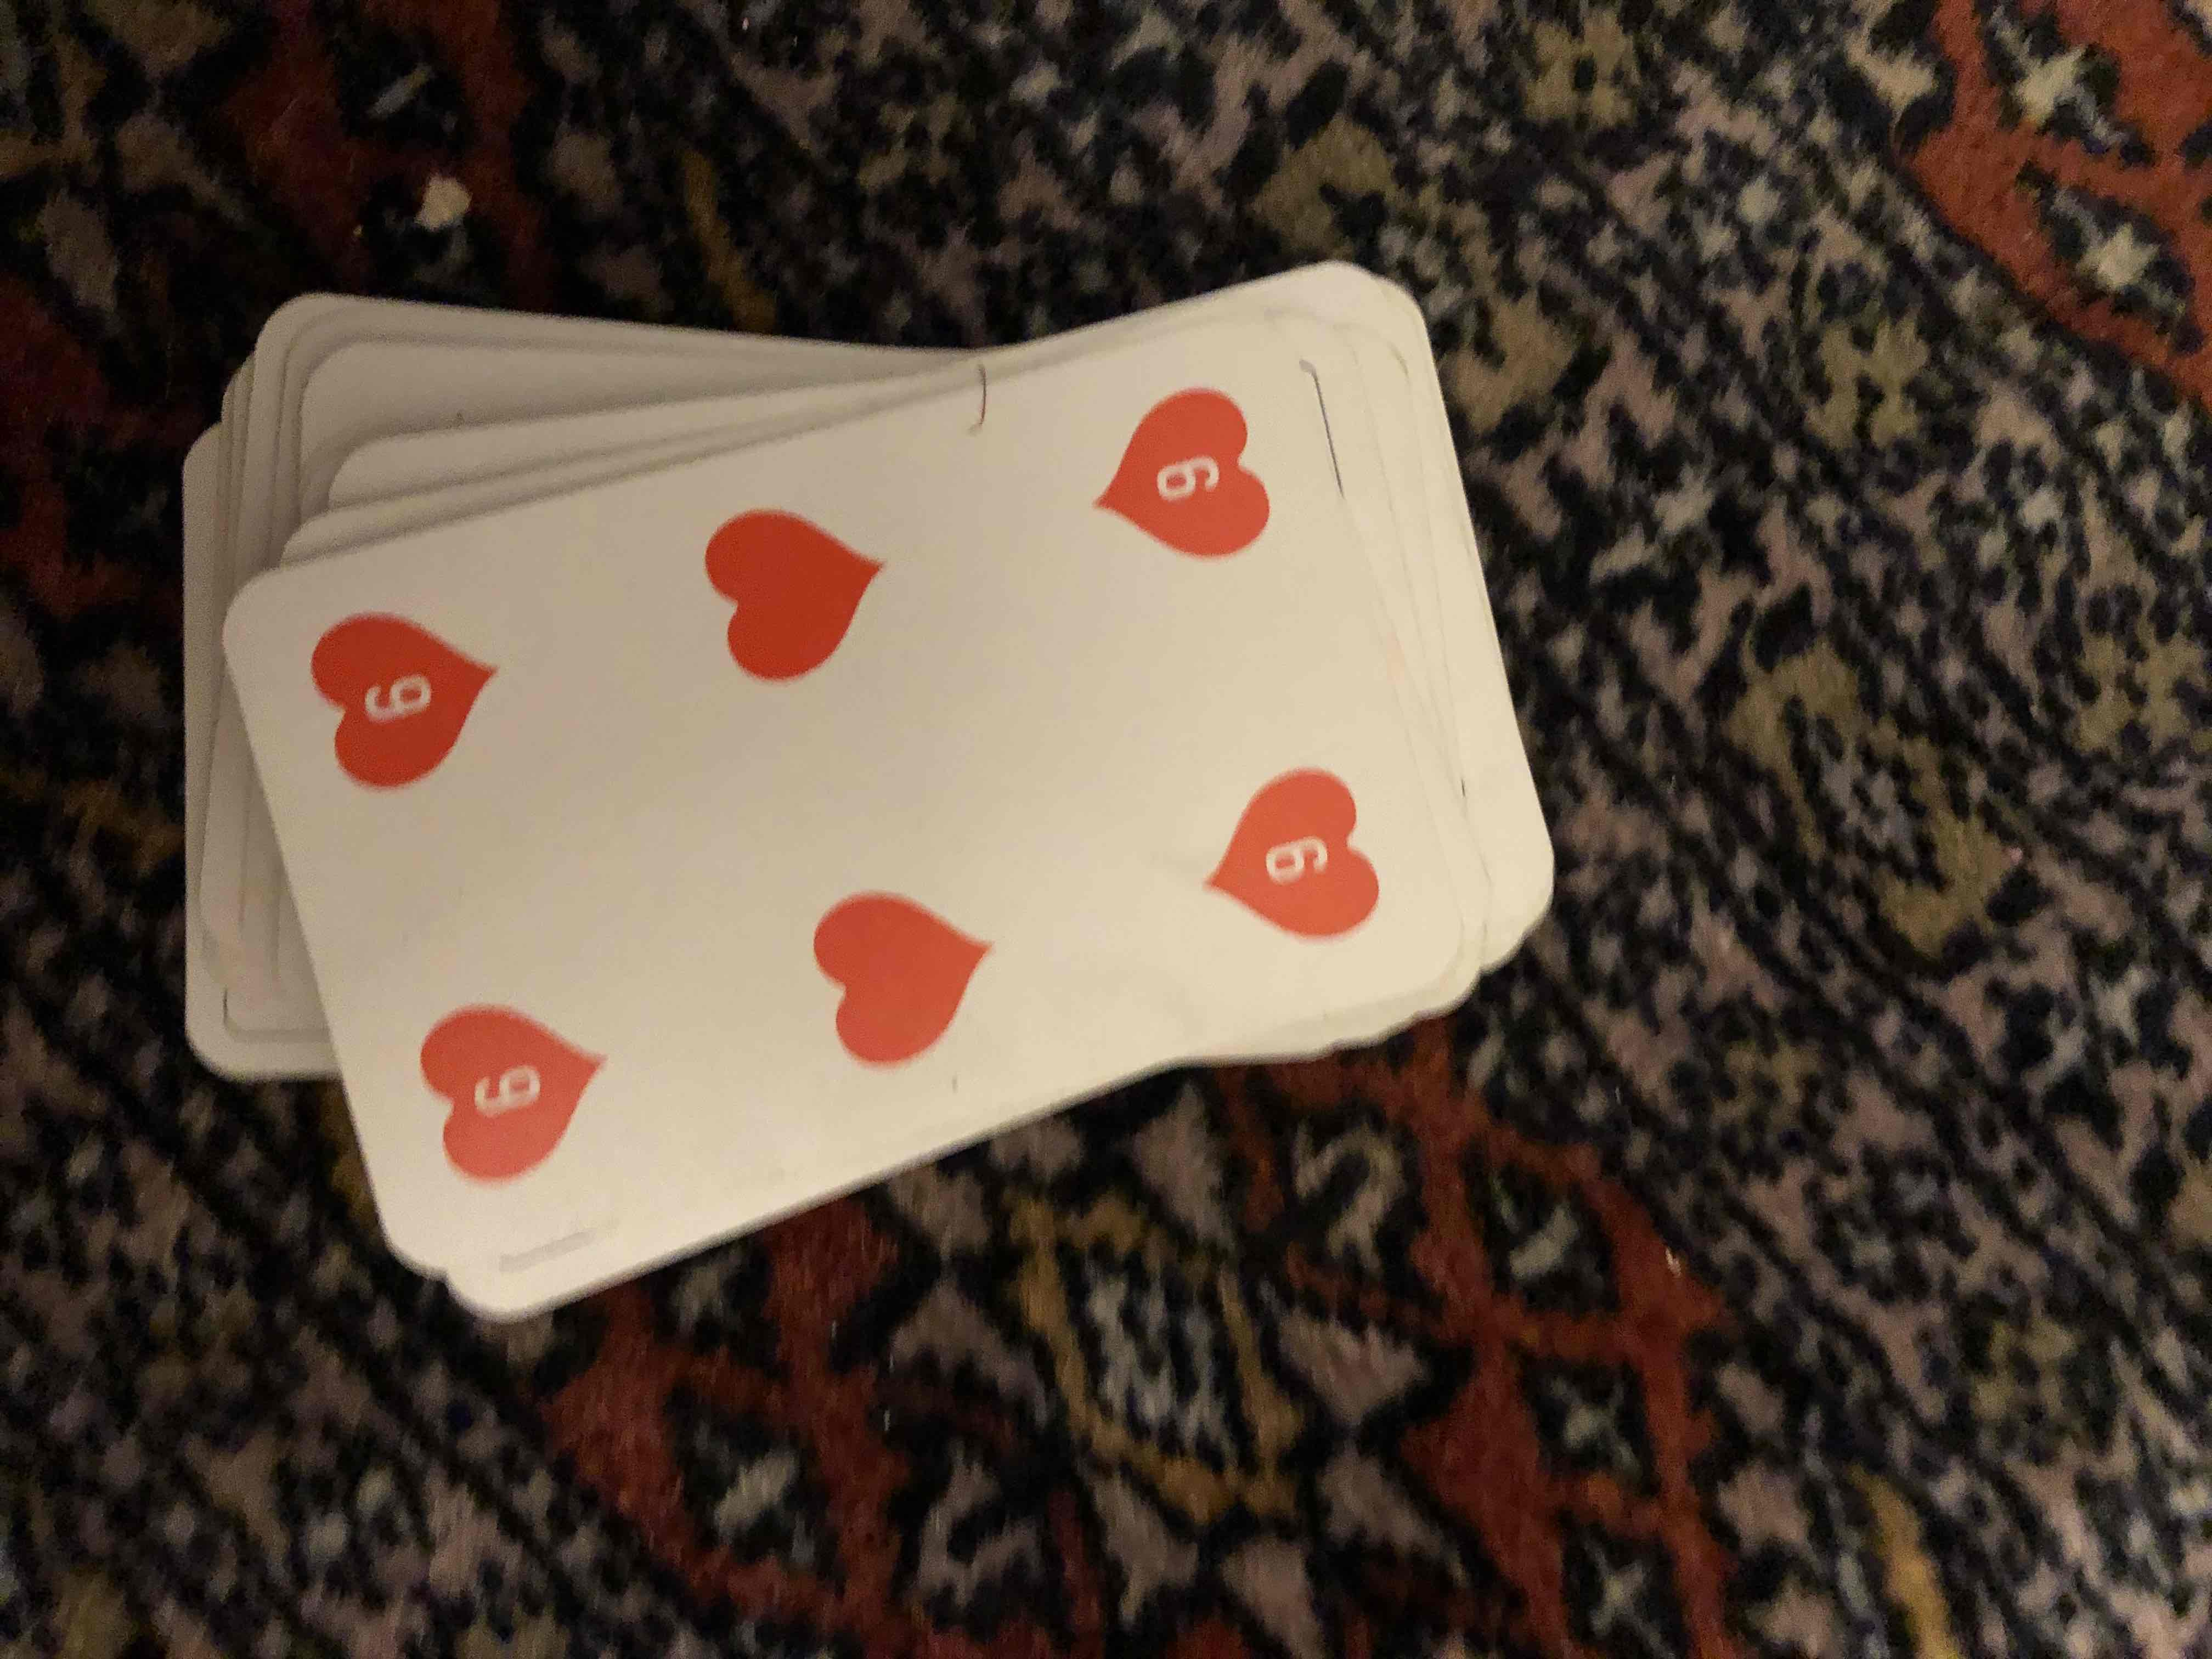hearts6: (230, 413, 1480, 1171)
